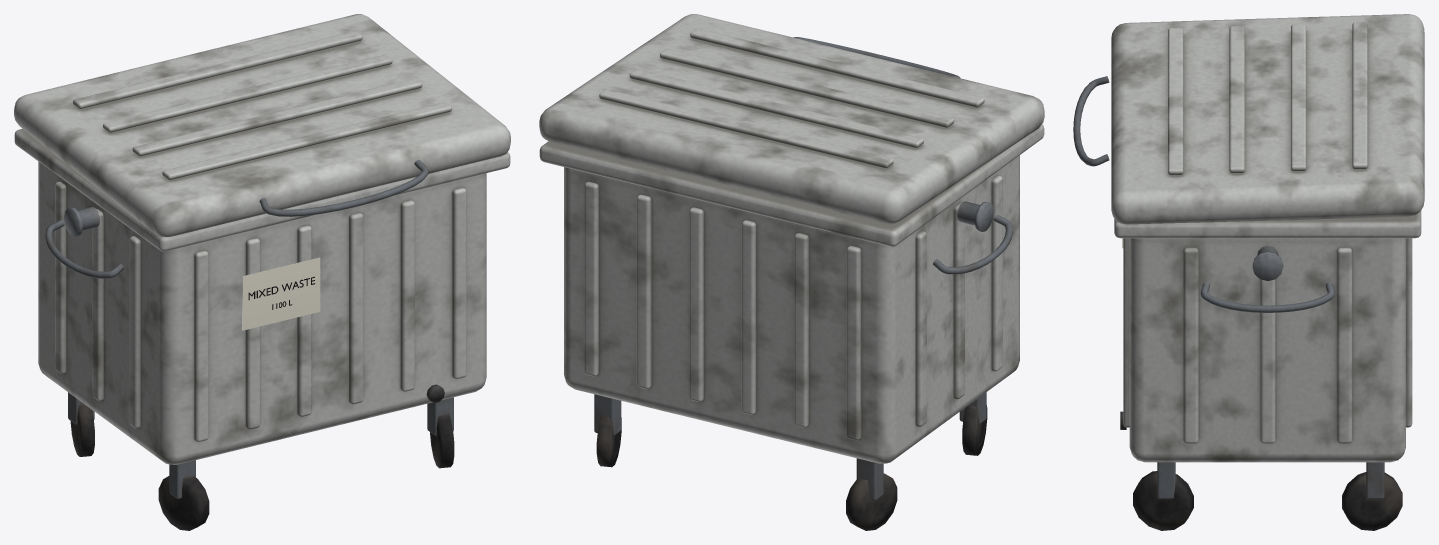
Rendered from ul_kontener.glb.
3 views of the same model, side by side, from view 1: azimuth 30°, elevation 25°; view 2: azimuth 150°, elevation 25°; view 3: azimuth 270°, elevation 25° (orthographic). The views are drawn at different scales.
Visible parts, largest first — view 1: TintKorpus, Okucia, Naklejka; view 2: TintKorpus, Okucia; view 3: TintKorpus, Okucia.
Part boxes in pixels (left/top/right/bottom): TintKorpus: left=14, top=14, right=510, bottom=464; Okucia: left=45, top=160, right=454, bottom=530; Naklejka: left=242, top=257, right=320, bottom=330; TintKorpus: left=539, top=14, right=1044, bottom=463; Okucia: left=594, top=37, right=1012, bottom=530; TintKorpus: left=1111, top=14, right=1424, bottom=462; Okucia: left=1073, top=76, right=1402, bottom=530.
Bounding box in the file's own units: 1.55 × 1.33 × 1.14.
4 materials, 2 textured.
